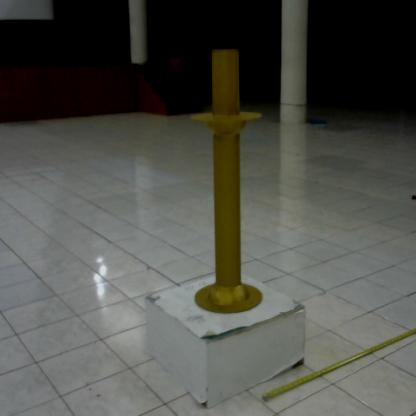pole: (180, 41, 273, 323)
